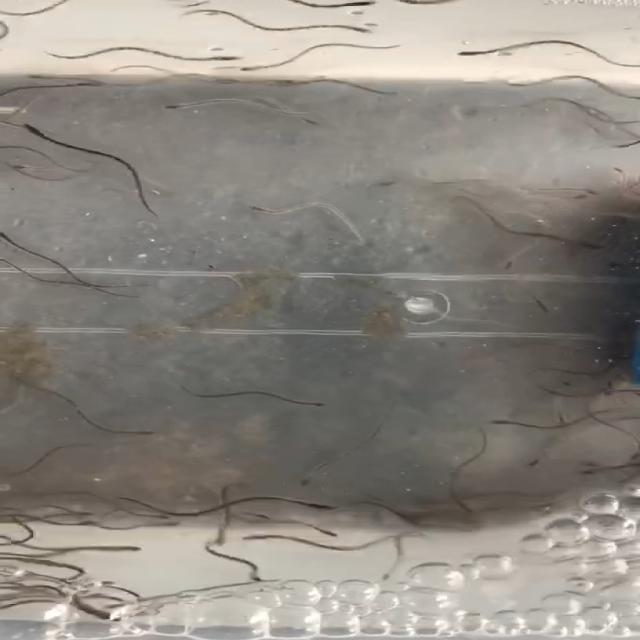active_glass_eel: (238, 59, 310, 76), (232, 196, 284, 218), (307, 524, 353, 548), (460, 38, 504, 63), (438, 497, 490, 518), (120, 499, 174, 519), (19, 124, 75, 142), (522, 452, 563, 476), (0, 105, 36, 132), (369, 562, 419, 580), (9, 153, 51, 174), (338, 18, 384, 36), (193, 54, 244, 70), (247, 559, 279, 583), (119, 598, 157, 618), (284, 107, 326, 125), (83, 542, 136, 556), (482, 416, 521, 435), (276, 491, 311, 511), (293, 70, 336, 85), (157, 99, 206, 111), (208, 63, 252, 76), (80, 75, 120, 89), (202, 534, 233, 552), (300, 399, 340, 412), (594, 78, 628, 92), (124, 428, 157, 442), (514, 9, 551, 21), (21, 72, 44, 90)
